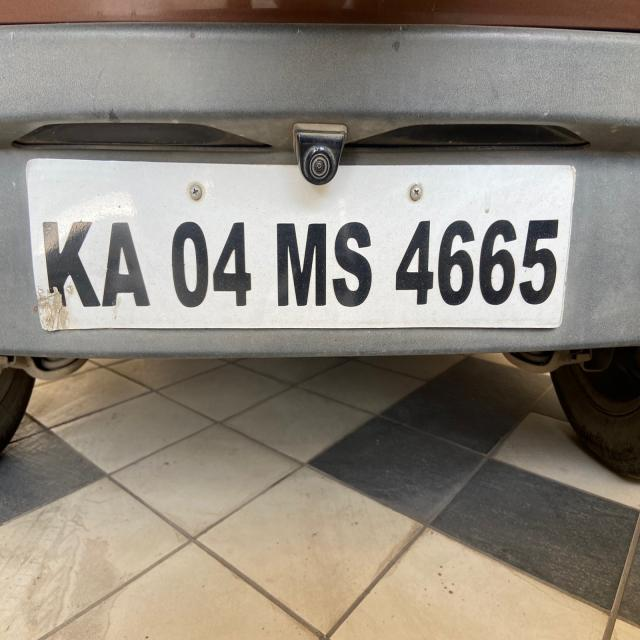0: (162, 211, 213, 312)
4: (208, 212, 258, 313), (392, 210, 437, 314)
5: (521, 212, 561, 314)
6: (437, 211, 476, 315), (478, 211, 517, 313)
A: (99, 214, 152, 317)
K: (36, 212, 105, 318)
M: (268, 218, 329, 310)
S: (328, 219, 374, 312)
